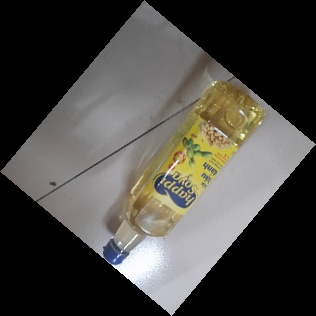Happy Soya: (101, 81, 266, 265)
